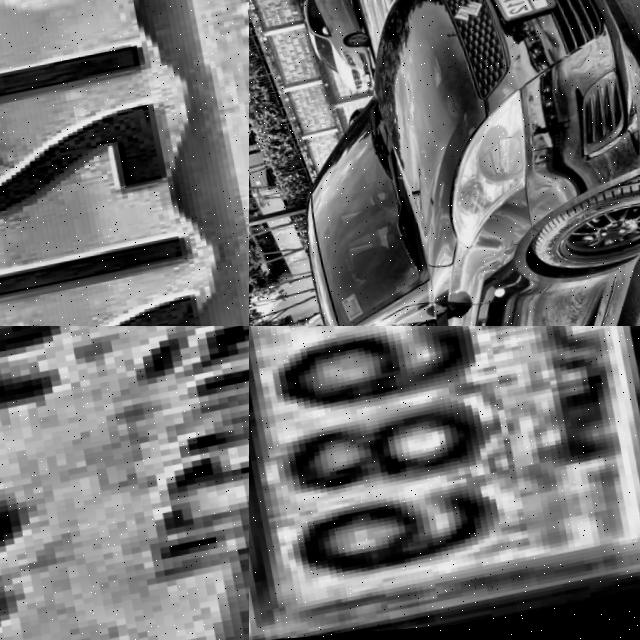license-plate: (249, 326, 640, 640), (0, 0, 249, 326), (0, 326, 249, 640), (476, 0, 552, 30)
